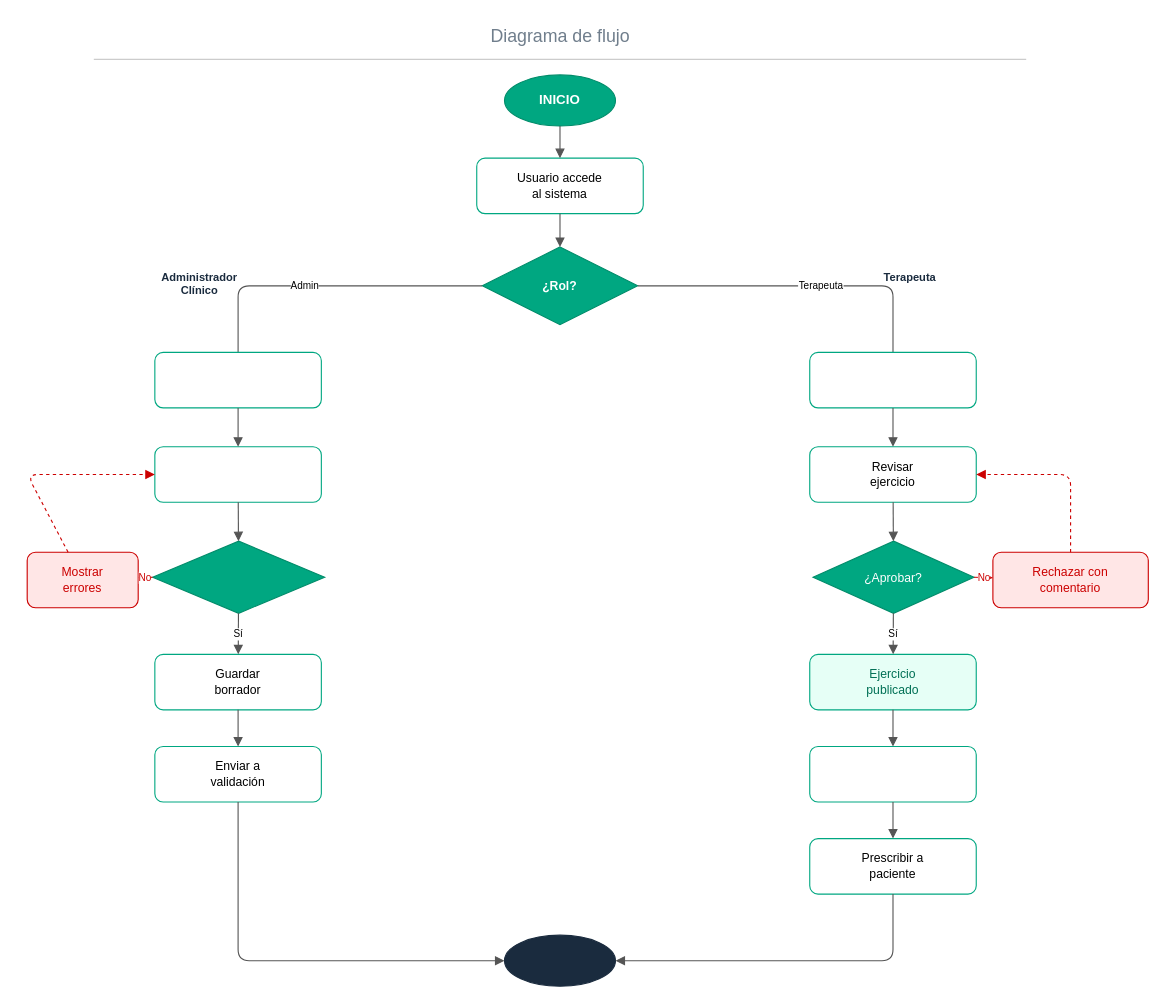
The diagram is 1168 pixels wide and 1006 high, and some of its shapes have lost their labels. Each missing label, with the box of its shape:
Buscar ejercicio en biblioteca: (809, 745, 976, 802)
Crear / Editar ejercicio: (154, 446, 321, 502)
FIN: (503, 934, 615, 986)
Ver lista de ejercicios: (154, 351, 321, 408)
Ver panel de validación: (809, 351, 976, 408)
¿Datos válidos?: (152, 540, 325, 613)
